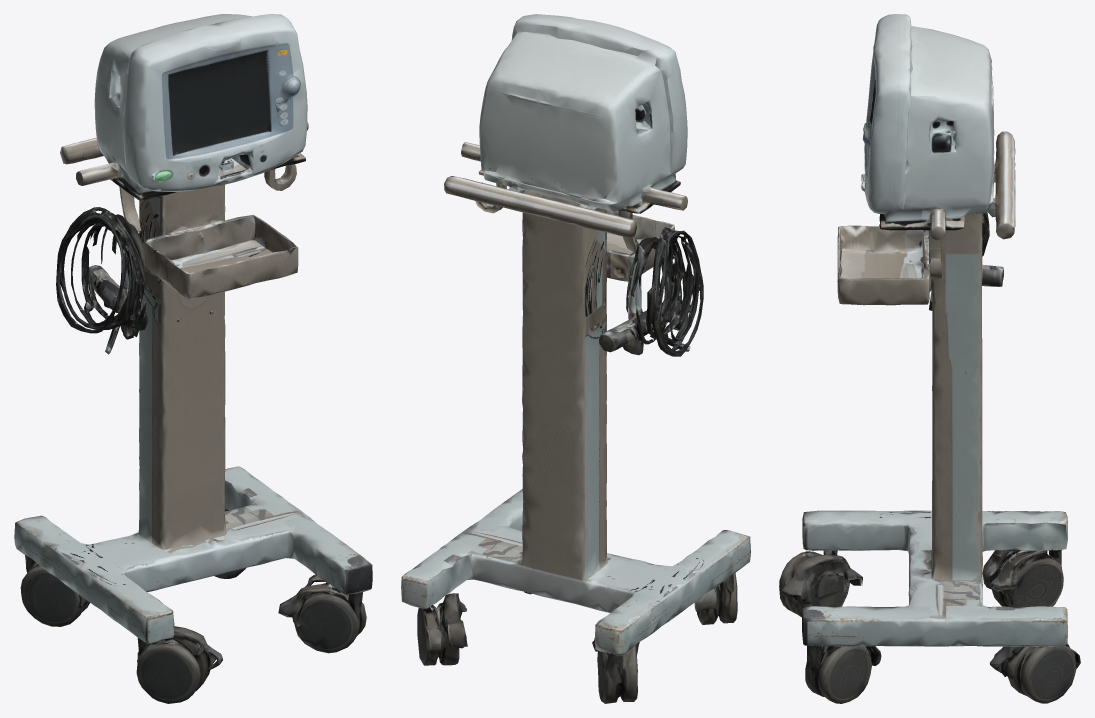
Rendered from S1_VitalMonitor.fbx.
The picture shows the model from 3 angles, left to right: view 1: azimuth 30°, elevation 25°; view 2: azimuth 150°, elevation 25°; view 3: azimuth 270°, elevation 25°; orthographic projection. The views are drawn at different scales.
Parts seen in each view (by area): view 1: S1_VitalMonitor_LOD0; view 2: S1_VitalMonitor_LOD0; view 3: S1_VitalMonitor_LOD0.
Part boxes in pixels (x1=…): S1_VitalMonitor_LOD0: x1=14, y1=14, x2=372, y2=703; S1_VitalMonitor_LOD0: x1=401, y1=14, x2=750, y2=703; S1_VitalMonitor_LOD0: x1=779, y1=14, x2=1080, y2=703.
Size of what is drawn, in the model's own units: 58.69 by 148 by 65.99.
